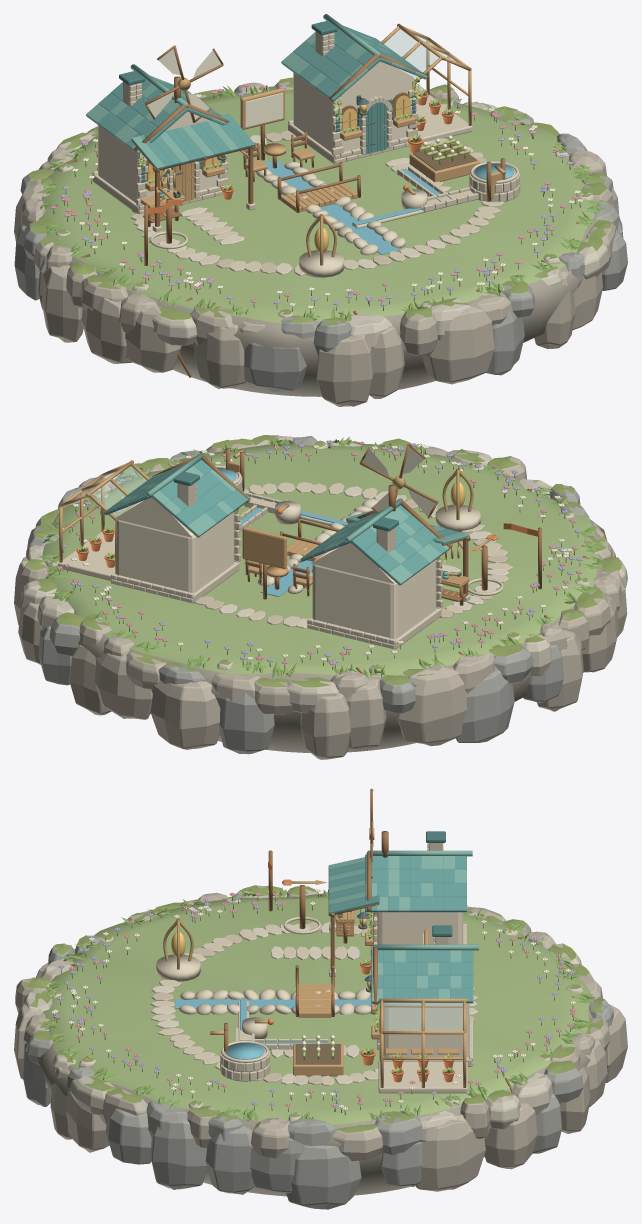
The model's file is NeighborArt-v1.fbx.
The picture shows the model from 3 angles, top to bottom: view 1: azimuth 30°, elevation 25°; view 2: azimuth 150°, elevation 25°; view 3: azimuth 270°, elevation 25°; orthographic projection.
Parts seen in each view (by area): view 1: Ground_Surface, DetailBatch_V2_CliffWarm, DetailBatch_V2_Stone, DetailBatch_V2_CliffSlate, DetailBatch_V2_Teal, DetailBatch_V2_LightWood, DetailBatch_V2_RockMoss, DetailBatch_V2_CliffPale, DetailBatch_V2_Leaf, DetailBatch_V2_TealLight, DetailBatch_V2_Timber, DetailBatch_V2_Plaster (+19 smaller); view 2: Ground_Surface, DetailBatch_V2_CliffWarm, DetailBatch_V2_CliffSlate, DetailBatch_V2_Stone, Solid_Workshop, Solid_GardenHouse, DetailBatch_V2_Teal, DetailBatch_V2_RockMoss, DetailBatch_V2_Leaf, DetailBatch_V2_CliffPale, DetailBatch_V2_LightWood, DetailBatch_V2_TealLight (+14 smaller); view 3: Ground_Surface, DetailBatch_V2_CliffSlate, DetailBatch_V2_CliffWarm, DetailBatch_V2_Stone, DetailBatch_V2_Teal, DetailBatch_V2_CliffPale, DetailBatch_V2_RockMoss, DetailBatch_V2_Leaf, DetailBatch_V2_TealLight, DetailBatch_V2_LightWood, Solid_GardenHouse, DetailBatch_V2_Timber (+12 smaller).
Boxes of the visible parts, left/top/right/bottom form: Ground_Surface: left=35, top=86, right=596, bottom=396; DetailBatch_V2_CliffWarm: left=14, top=81, right=616, bottom=406; DetailBatch_V2_Stone: left=92, top=31, right=520, bottom=277; DetailBatch_V2_CliffSlate: left=14, top=108, right=627, bottom=391; DetailBatch_V2_Teal: left=97, top=25, right=420, bottom=167; DetailBatch_V2_LightWood: left=140, top=23, right=502, bottom=212; DetailBatch_V2_RockMoss: left=28, top=77, right=611, bottom=325; DetailBatch_V2_CliffPale: left=34, top=86, right=608, bottom=348; DetailBatch_V2_Leaf: left=36, top=78, right=608, bottom=321; DetailBatch_V2_TealLight: left=86, top=14, right=427, bottom=197; DetailBatch_V2_Timber: left=54, top=53, right=580, bottom=377; DetailBatch_V2_Plaster: left=140, top=61, right=413, bottom=198; Ground_Surface: left=42, top=443, right=606, bottom=752; DetailBatch_V2_CliffWarm: left=14, top=439, right=627, bottom=759; DetailBatch_V2_CliffSlate: left=27, top=436, right=589, bottom=754; DetailBatch_V2_Stone: left=111, top=465, right=512, bottom=649; Solid_Workshop: left=312, top=547, right=436, bottom=638; Solid_GardenHouse: left=116, top=500, right=234, bottom=592; DetailBatch_V2_Teal: left=104, top=459, right=460, bottom=576; DetailBatch_V2_RockMoss: left=25, top=435, right=621, bottom=687; DetailBatch_V2_Leaf: left=37, top=436, right=608, bottom=680; DetailBatch_V2_CliffPale: left=21, top=436, right=627, bottom=713; DetailBatch_V2_LightWood: left=59, top=460, right=469, bottom=588; DetailBatch_V2_TealLight: left=116, top=453, right=469, bottom=585; Ground_Surface: left=39, top=892, right=595, bottom=1196; DetailBatch_V2_CliffSlate: left=23, top=922, right=613, bottom=1209; DetailBatch_V2_CliffWarm: left=14, top=885, right=627, bottom=1191; DetailBatch_V2_Stone: left=150, top=843, right=477, bottom=1085; DetailBatch_V2_Teal: left=328, top=854, right=473, bottom=1003; DetailBatch_V2_CliffPale: left=23, top=897, right=583, bottom=1141; DetailBatch_V2_RockMoss: left=22, top=885, right=604, bottom=1132; DetailBatch_V2_Leaf: left=38, top=887, right=595, bottom=1122; DetailBatch_V2_TealLight: left=328, top=850, right=478, bottom=1003; DetailBatch_V2_LightWood: left=298, top=910, right=467, bottom=1087; Solid_GardenHouse: left=383, top=1003, right=469, bottom=1057; DetailBatch_V2_Timber: left=54, top=831, right=577, bottom=1105.
Bounding box in the file's own units: 1909 × 1015 × 1931.
